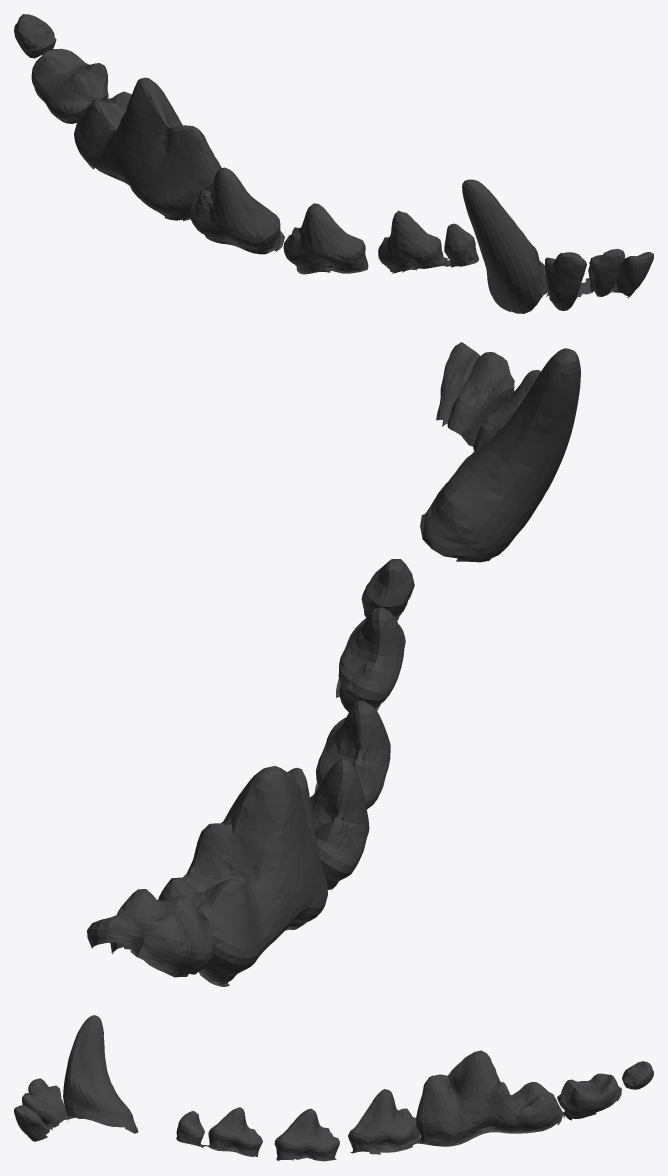
The picture shows the model from 3 angles, top to bottom: view 1: azimuth 30°, elevation 25°; view 2: azimuth 150°, elevation 25°; view 3: azimuth 270°, elevation 25°; orthographic projection. The views are drawn at different scales.
Parts seen in each view (by area): view 1: Group37170; view 2: Group37170; view 3: Group37170.
Part boxes in pixels (bbox=[...]): Group37170: bbox=[14, 14, 653, 313]; Group37170: bbox=[87, 342, 580, 986]; Group37170: bbox=[14, 1015, 653, 1161].
Size of the model in its own units: 0.2857 by 0.2546 by 0.9908.
Materials: 1 (1 with a texture image).
